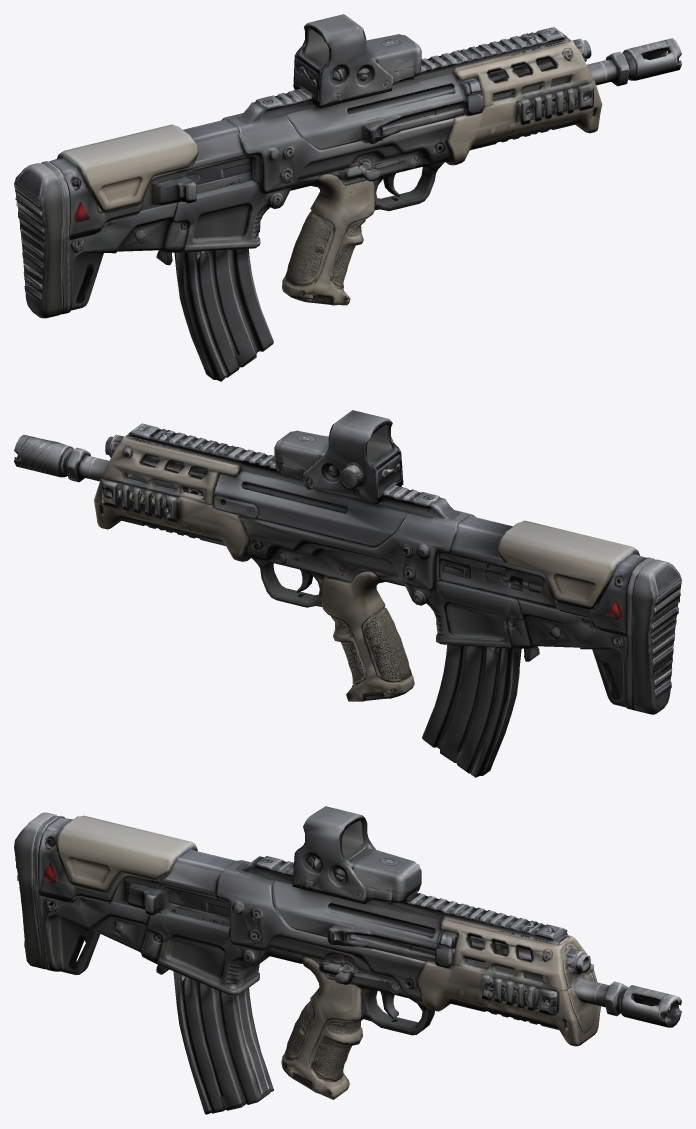
File: neutrophil_rifle.fbx
The picture shows the model from 3 angles, top to bottom: view 1: azimuth 30°, elevation 25°; view 2: azimuth 150°, elevation 25°; view 3: azimuth 330°, elevation 25°; orthographic projection.
Visible parts, largest first — view 1: tripo_node_c0f1bbb0; view 2: tripo_node_c0f1bbb0; view 3: tripo_node_c0f1bbb0.
Boxes of the visible parts, x1=… form: tripo_node_c0f1bbb0: x1=14, y1=14, x2=681, y2=381; tripo_node_c0f1bbb0: x1=14, y1=410, x2=681, y2=777; tripo_node_c0f1bbb0: x1=14, y1=806, x2=681, y2=1114.
Bounding box in the file's own units: 0.9799 × 0.466 × 0.1131.
1 material, 1 textured.
